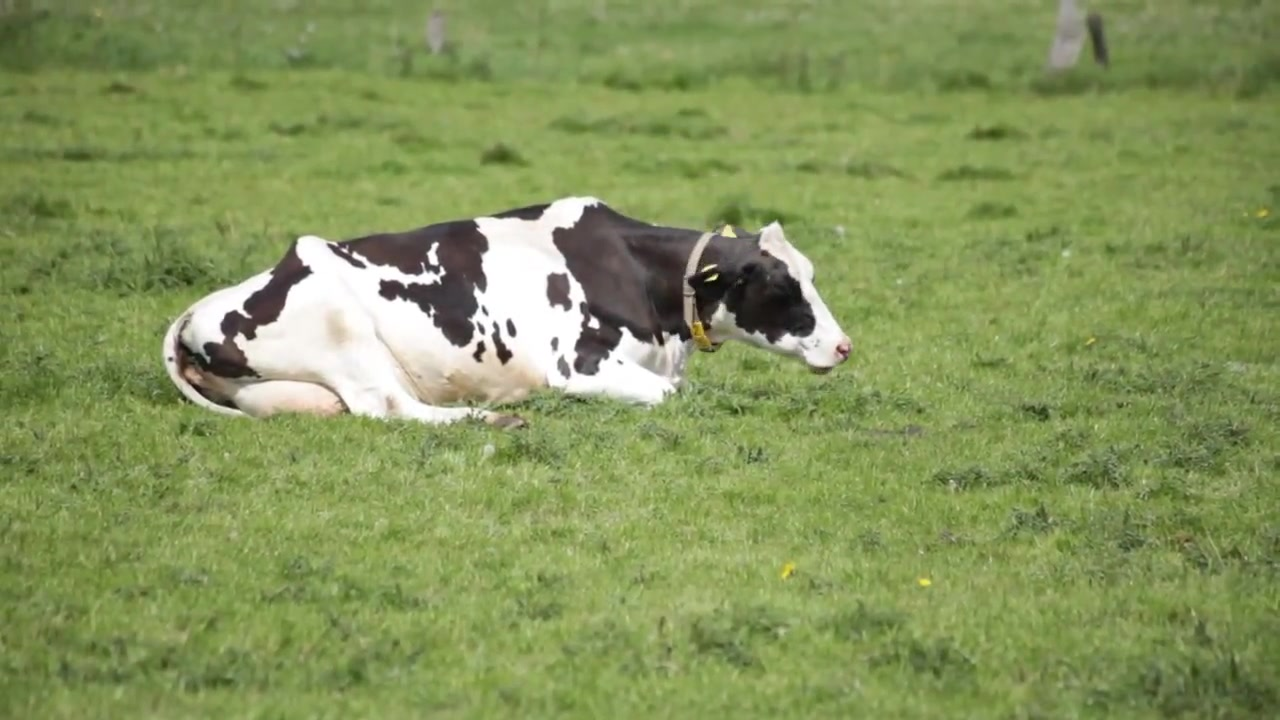cow: (160, 200, 849, 428)
